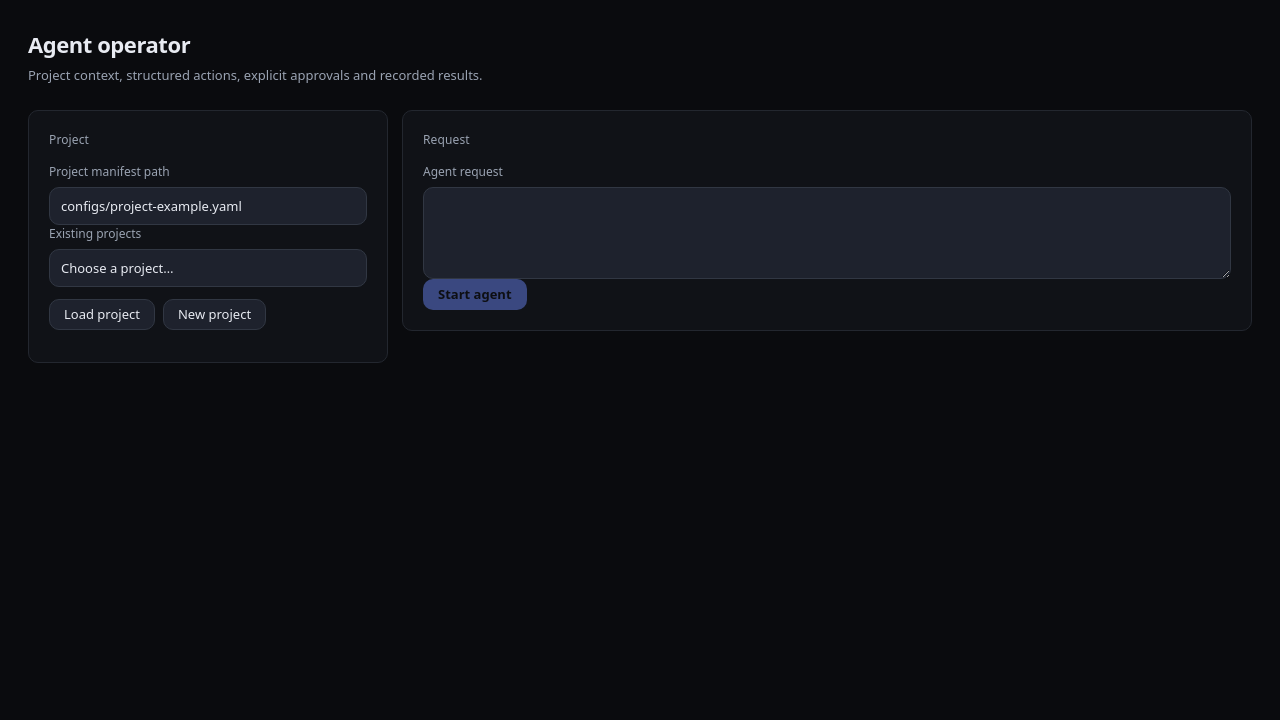
Test: operator actions, approvals and persisted trace › loads server defaults, saves them through validation, and does not start an unsaved project
Later steps or results of the test are not shown.
What coordinates should you click on to do the following:
click the button "New project"
I would click on:
 (214, 314)
Its box is x1=163 y1=299 x2=266 y2=330.
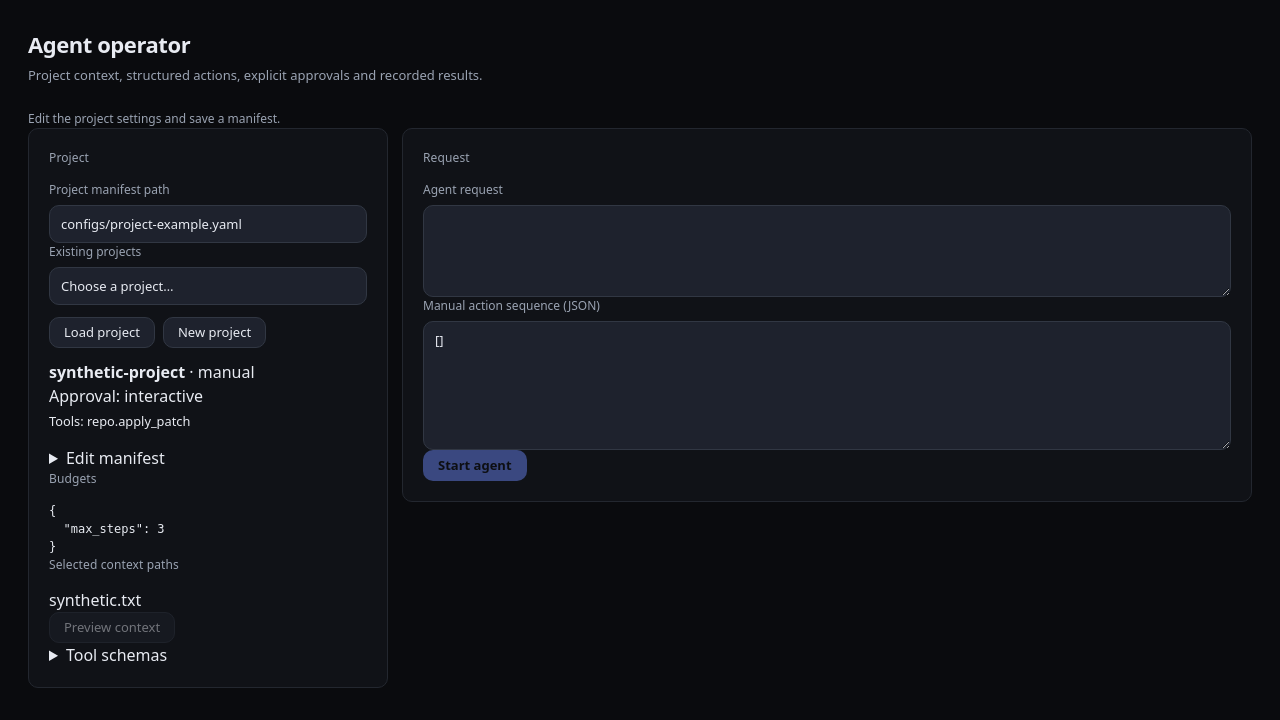
Check: the text "synthetic-project" is shown, box x1=49 y1=361 x2=185 y2=383
